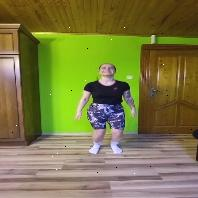high_jumps: (65, 54, 147, 161)
